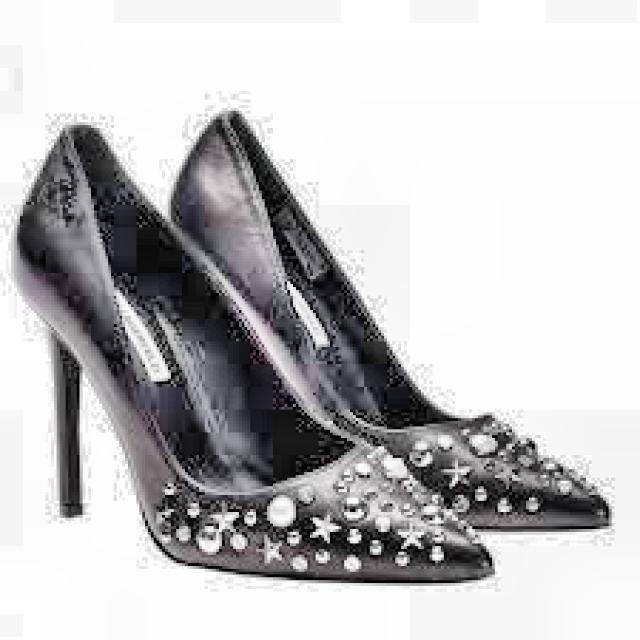shoes: (4, 93, 637, 624)
